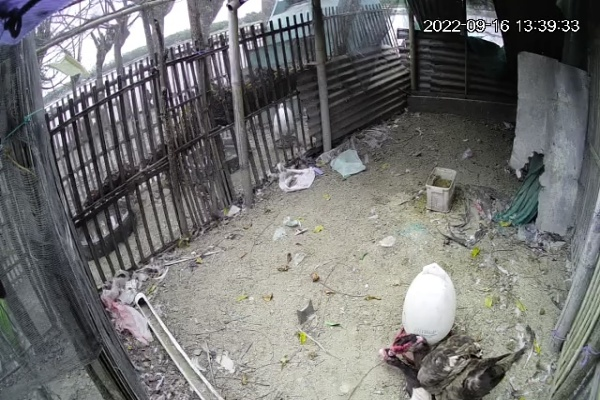Kawin: (359, 314, 516, 400)
